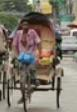Rickshaw: (16, 12, 62, 111)
